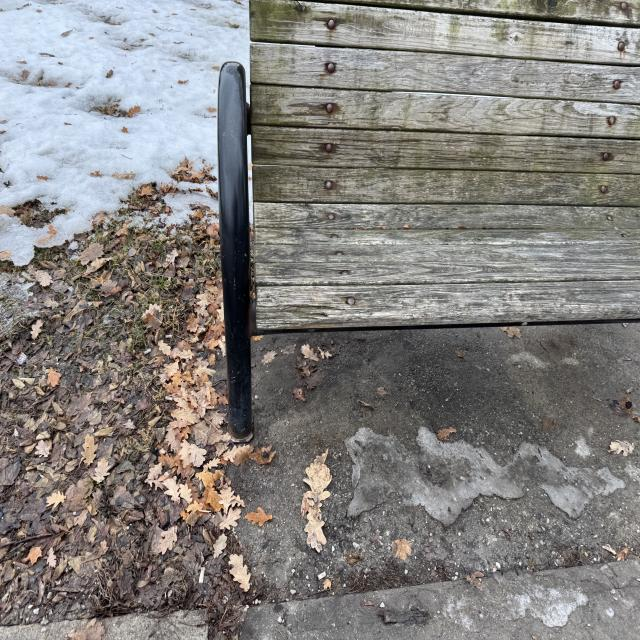Bench: (215, 2, 637, 397)
